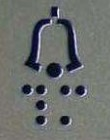Braille: (60, 84, 87, 126), (22, 84, 48, 126)
